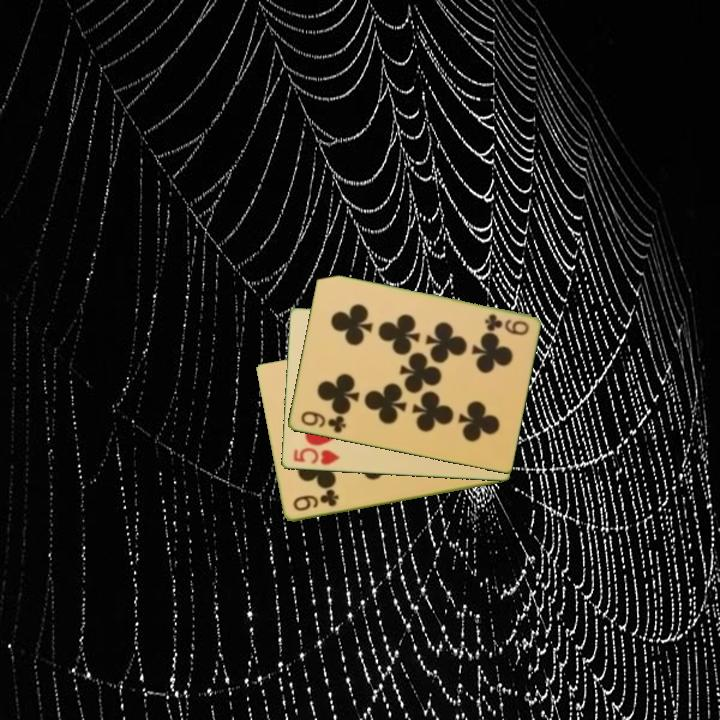5h: (290, 444, 342, 468)
9c: (297, 408, 349, 436), (481, 311, 532, 339), (289, 488, 341, 514)
